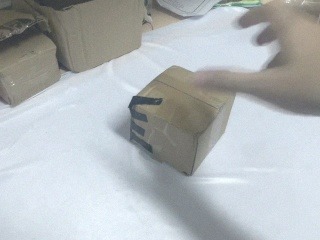box: (129, 66, 234, 174), (28, 1, 154, 68), (1, 9, 63, 113)
